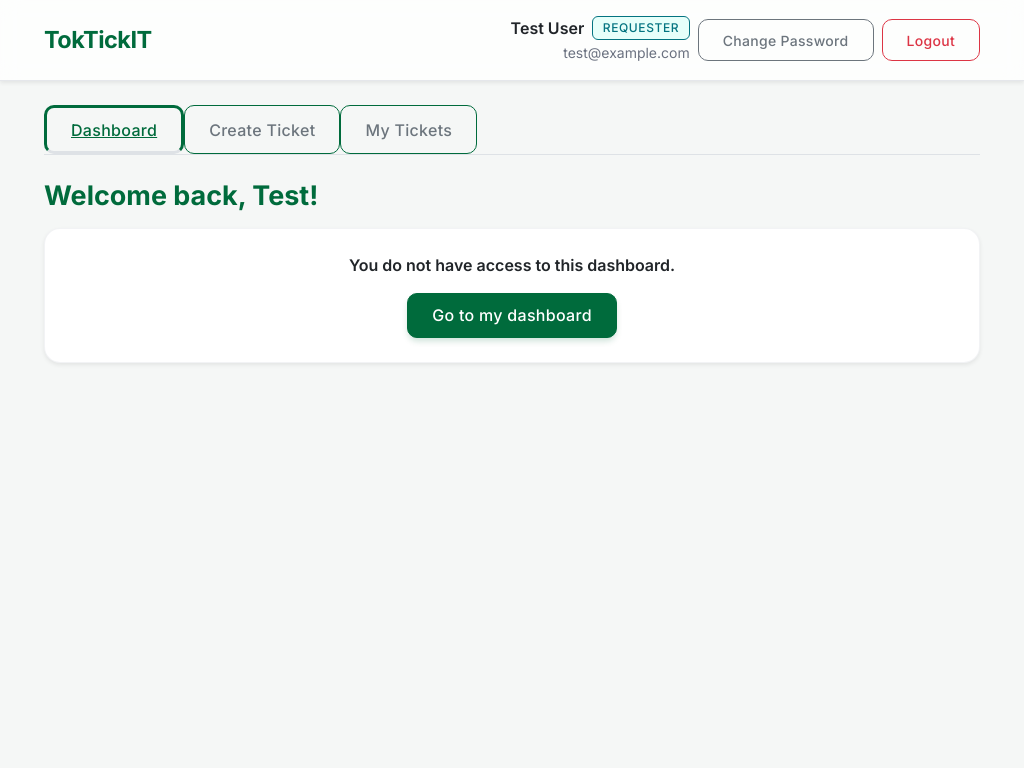
it: UI-25: role navigation, landing page and dashboard drill-down (Issue #33) › a Requester who opens the other role's dashboard URL sees the forbidden message and no numbers, with a way back
Check: the text "You do not have access to this dashboard." is shown, box [349, 254, 675, 274]
Check: the link "Open list" is not shown
Click the button "Go to my dashboard" at (512,315), box [407, 292, 617, 338]
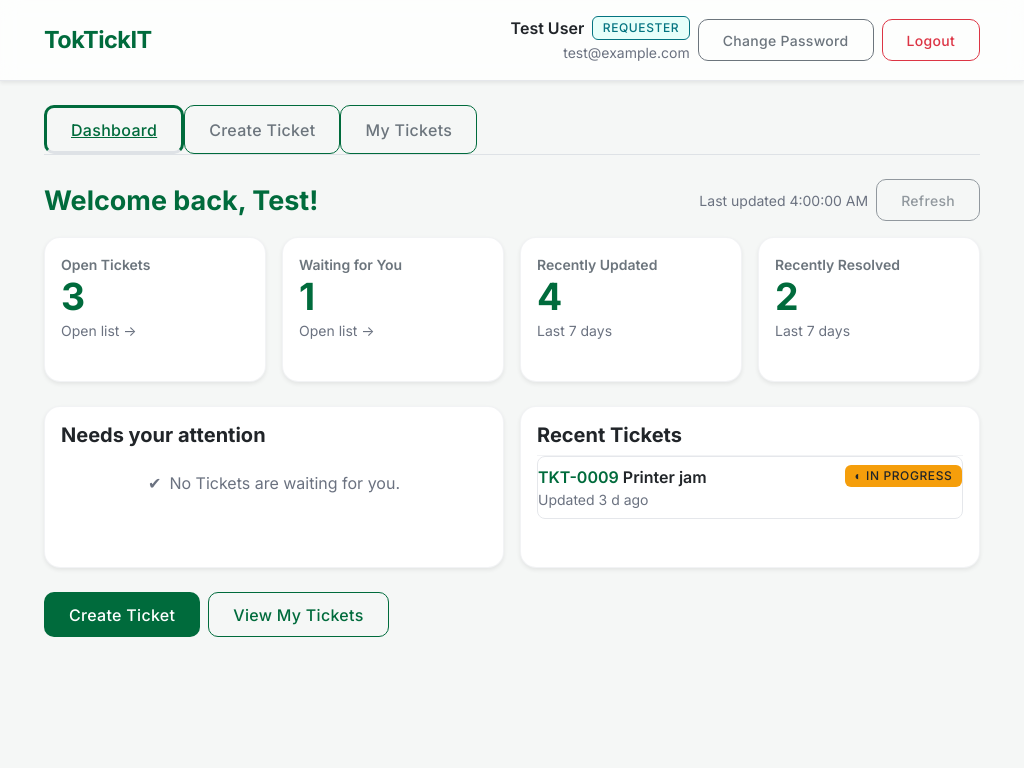
Check: the link with aria-label "Open Tickets: 3" is shown, box [44, 237, 266, 382]
